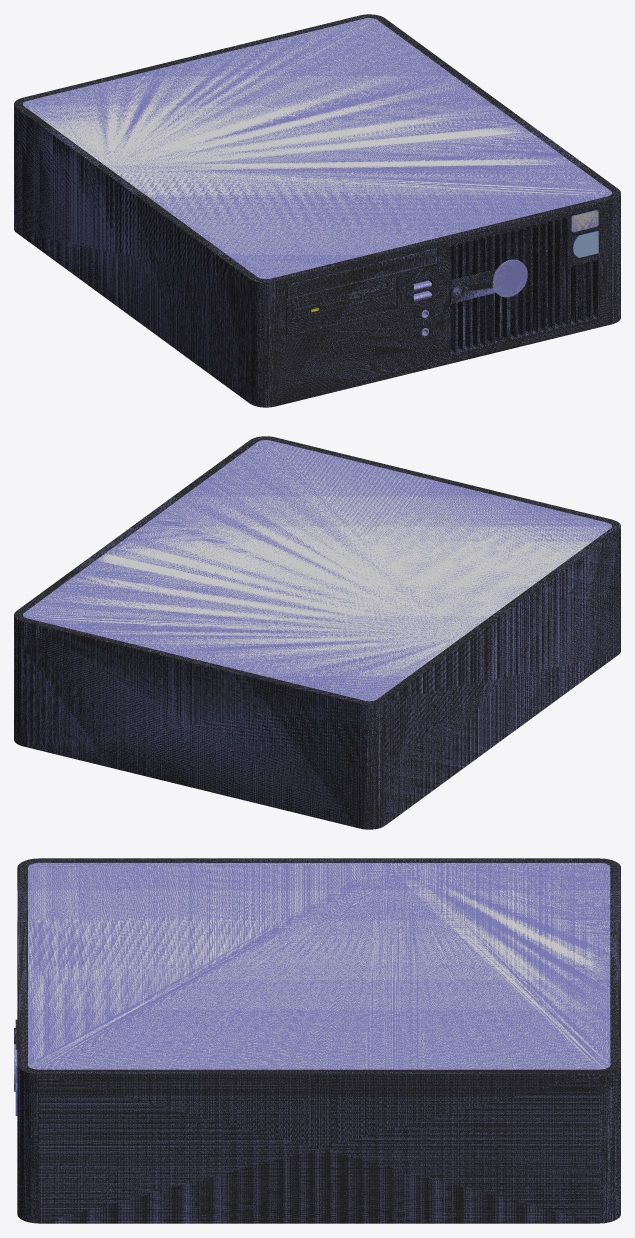
File: computer_media.fbx
3 views of the same model, one above another, from view 1: azimuth 30°, elevation 25°; view 2: azimuth 150°, elevation 25°; view 3: azimuth 270°, elevation 25° (orthographic). The views are drawn at different scales.
Visible parts, largest first — view 1: Model; view 2: Model; view 3: Model.
Part boxes in pixels (x1,y1,x2,y2): Model: [14, 14, 620, 407]; Model: [14, 436, 620, 829]; Model: [14, 858, 620, 1223].
Bounding box in the file's own units: 0.3 × 0.097 × 0.357.
